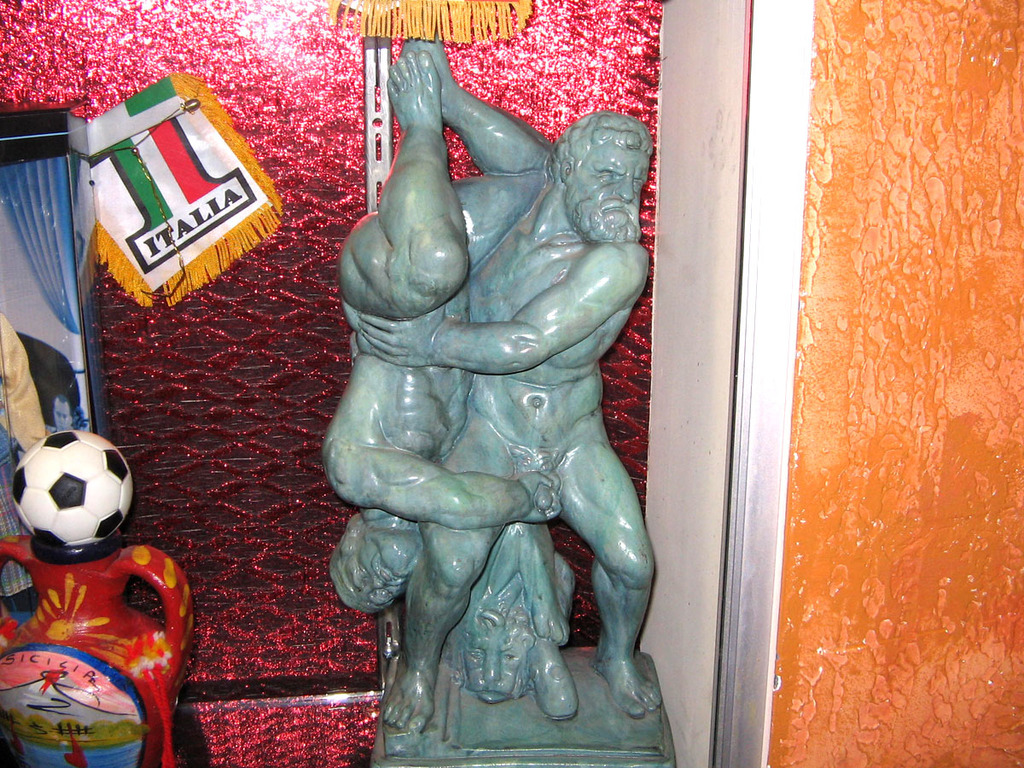Ball: (12, 431, 134, 551)
